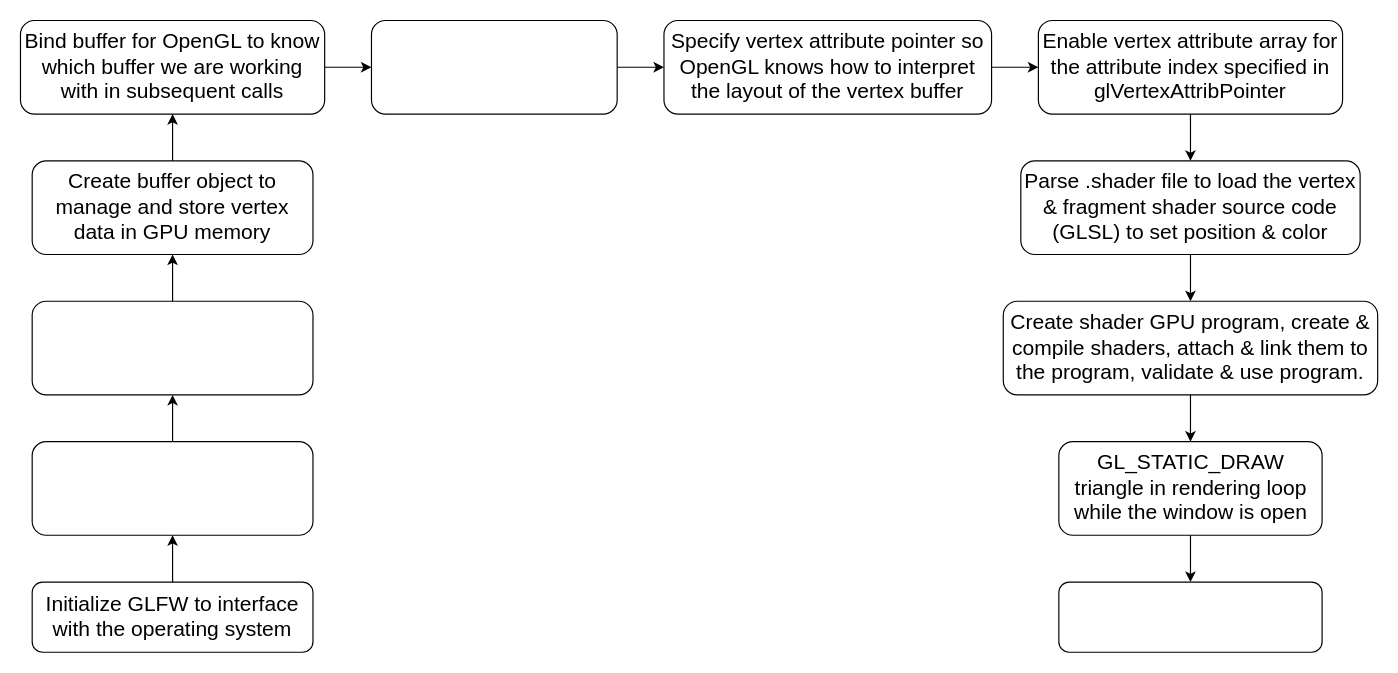
Some shapes in this 1398 by 673 pixel diagram are drawn without their labels. Here are the shapes that lost their labels. From the top down, the centre of each, then its label:
At point (493, 66): "Upload vertex data to the GPU's memory for fast and efficient rendering".
At point (172, 347): "Initialize GLEW to access modern OpenGL functions in our NVIDIA GPU drivers".
At point (172, 488): "Create window, OpenGL context, and make the window's context current".
At point (1190, 616): "Delete shader program and terminate GLFW".
